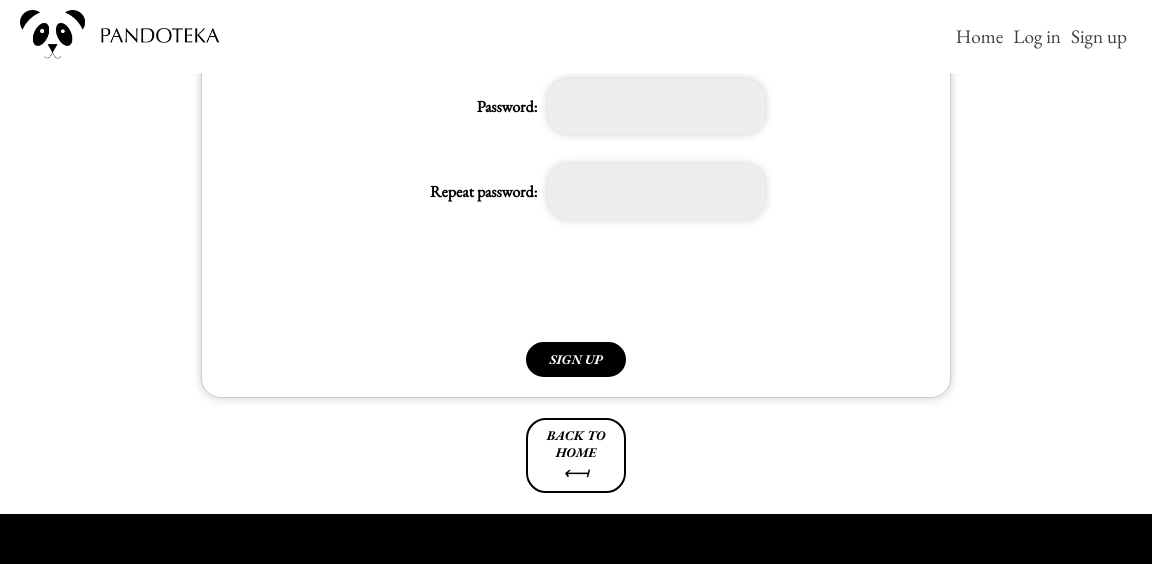
Test: wrong data › show message about empty email
(page scrolled)
Click the button with test id "submit": (576, 360) [526,342,626,377]
(page scrolled)
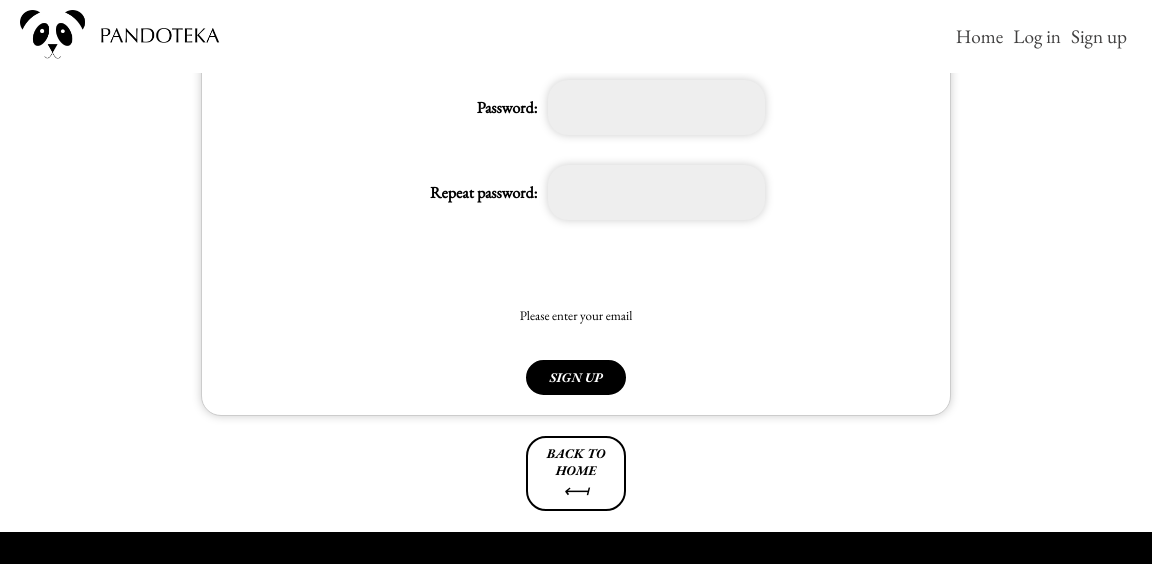
Check: the text "Please enter your email" is shown, box [520,307,632,324]
